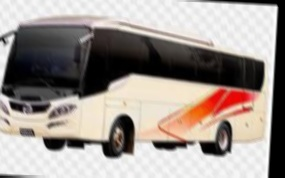bus: (0, 11, 270, 167)
